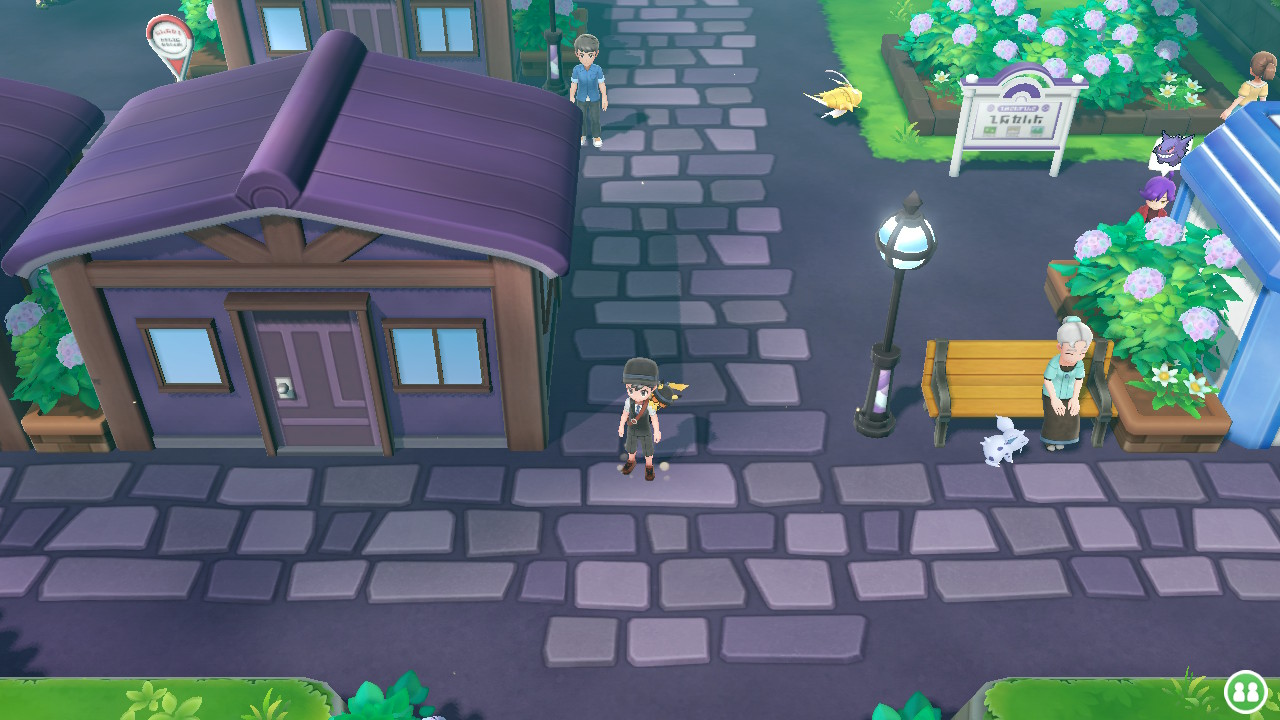Golden: (803, 73, 867, 123)
